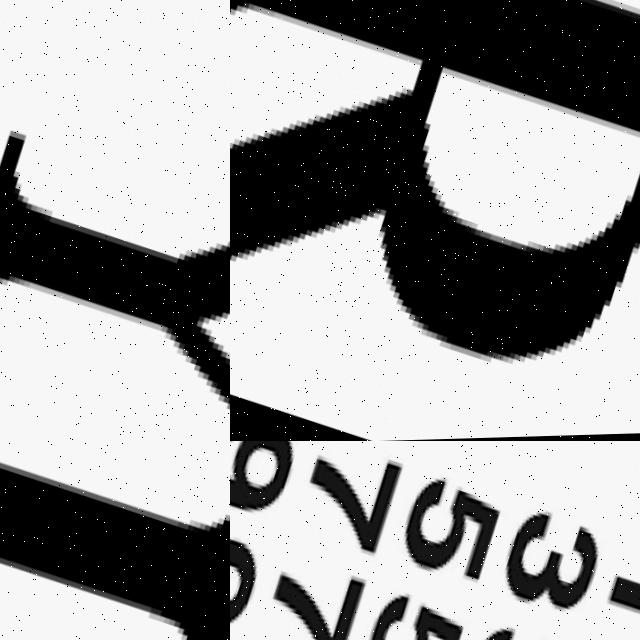1: (599, 542, 640, 640)
3: (490, 501, 611, 624)
5: (385, 468, 510, 595), (348, 581, 474, 640)
7: (285, 441, 414, 564), (246, 545, 373, 640)
9: (230, 441, 311, 523), (230, 517, 271, 640)
L: (0, 441, 230, 640)
R: (230, 0, 640, 441)
Y: (0, 0, 230, 441)
